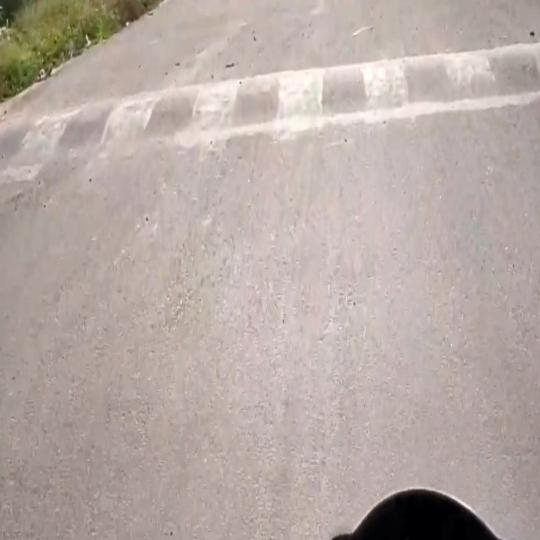Speed Bump: (0, 41, 540, 177)
